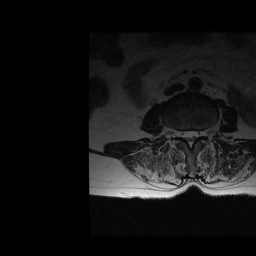CCS_normal: (187, 123, 193, 153)
LFS_normal: (199, 123, 205, 143)
LLS_normal: (193, 124, 199, 145)
RFS_normal: (174, 122, 181, 143)
RLS_normal: (181, 124, 187, 145)
